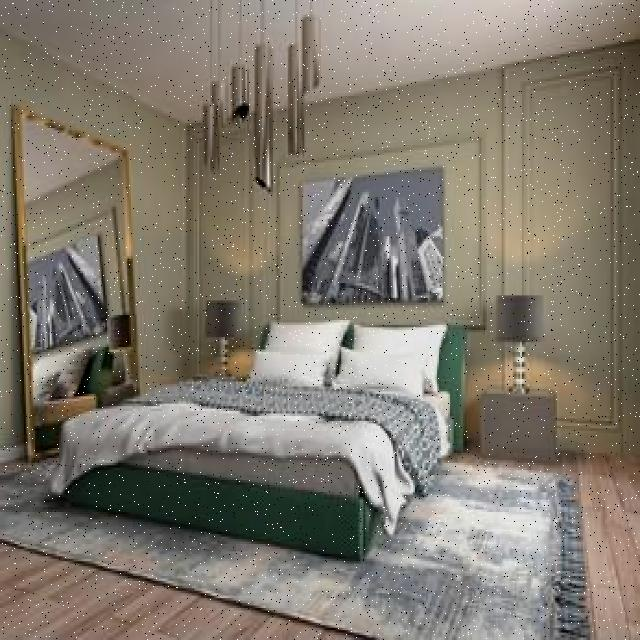bed: (67, 305, 472, 529)
